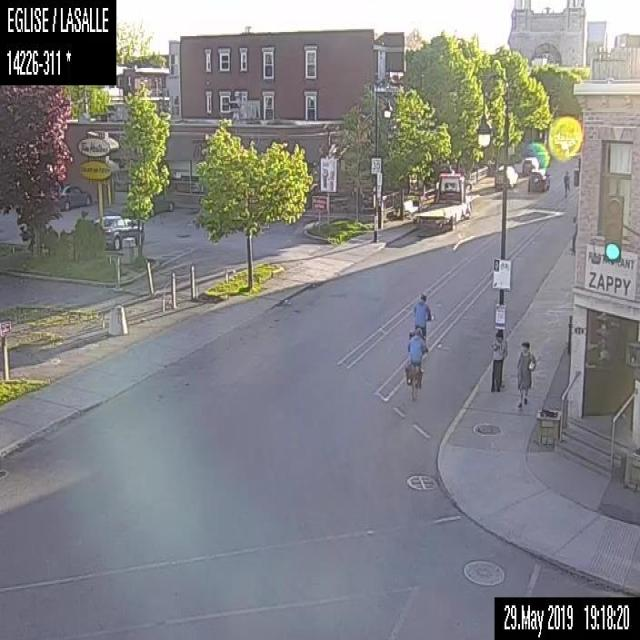cyclist: (404, 327, 428, 402), (409, 292, 436, 347)
pedestrian: (514, 340, 536, 411), (490, 325, 509, 393), (563, 169, 571, 199)
vehicle: (412, 170, 473, 233), (93, 214, 144, 250), (59, 182, 92, 208), (492, 164, 517, 189), (528, 165, 552, 191), (149, 194, 174, 216), (520, 156, 538, 175)
